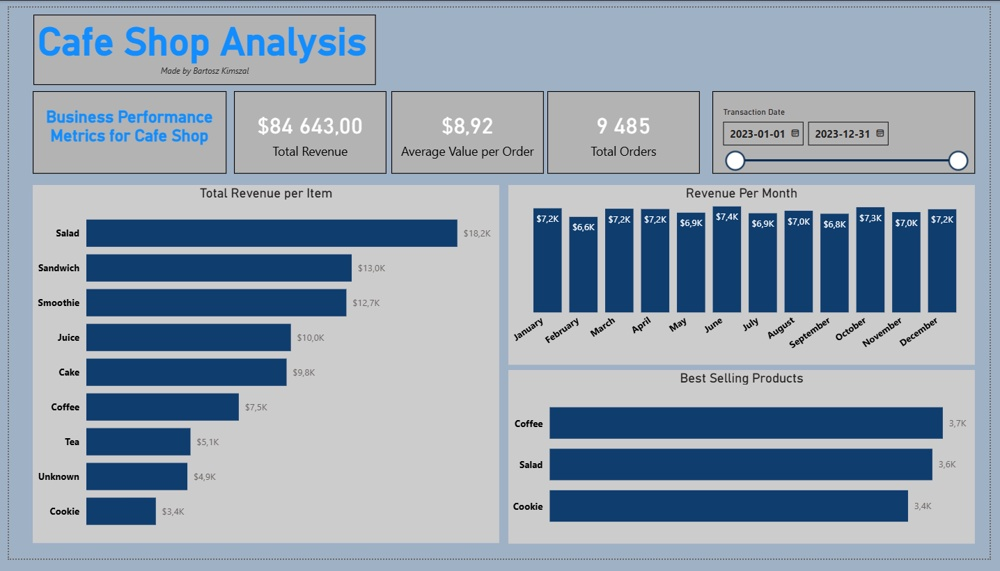

Layout of this report page (visuals, bound fields, positions):
{"tool":"powerbi","page":{"name":"Dashboard","canvas":[1280,720],"ordinal":0},"visuals":[{"type":"card","fields":{"Values":["Sum(cafe_sales.total_spent)"]},"box":[293.6,109.1,198.8,108.2],"z":0,"group":"g1"},{"type":"slicer","fields":{"Values":["cafe_sales.transaction_date"]},"box":[918.2,109.1,342.7,108.2],"z":0},{"type":"group","id":"g1","title":"Group 1","box":[293.6,109.1,608.2,108.2],"z":1000},{"type":"card","fields":{"Values":["Avg(cafe_sales.total_spent)"]},"box":[498.6,109.1,198.8,108.2],"z":1000,"group":"g1"},{"type":"textbox","box":[31.8,9.1,447.3,91.8],"z":2000},{"type":"card","fields":{"Values":["CountNonNull(cafe_sales.total_spent)"]},"box":[703,109.1,198.8,108.2],"z":2000,"group":"g1"},{"type":"clusteredBarChart","title":"Total Revenue per Item","fields":{"Y":["Sum(cafe_sales.total_spent)"],"Category":["cafe_sales.item"]},"box":[30.9,231.8,609.1,468.2],"z":3000},{"type":"textbox","box":[31,109.1,252.7,108.2],"z":4000},{"type":"clusteredColumnChart","title":"Revenue Per Month","fields":{"Category":["cafe_sales.transaction_date.Variation.Date Hierarchy.Month"],"Y":["Sum(cafe_sales.total_spent)"]},"box":[651.8,231.8,609.1,234.5],"z":4001},{"type":"clusteredBarChart","title":"Best Selling Products","fields":{"Y":["Sum(cafe_sales.quantity)"],"Category":["cafe_sales.item"]},"box":[651.8,473.6,609.1,227.3],"z":4002}]}

Visuals, with their boxes in screenshot pixels (x1, y1, x2, y2), scaled from the page's 1280x720 canvas onto the 1000x571 screenshot:
card - Sum(cafe_sales.total_spent): <bbox>229, 87, 385, 172</bbox>
slicer - cafe_sales.transaction_date: <bbox>717, 87, 985, 172</bbox>
"Group 1" group: <bbox>229, 87, 705, 172</bbox>
card - Avg(cafe_sales.total_spent): <bbox>390, 87, 545, 172</bbox>
textbox: <bbox>25, 7, 374, 80</bbox>
card - CountNonNull(cafe_sales.total_spent): <bbox>549, 87, 705, 172</bbox>
"Total Revenue per Item" clusteredBarChart: <bbox>24, 184, 500, 555</bbox>
textbox: <bbox>24, 87, 222, 172</bbox>
"Revenue Per Month" clusteredColumnChart: <bbox>509, 184, 985, 370</bbox>
"Best Selling Products" clusteredBarChart: <bbox>509, 376, 985, 556</bbox>
